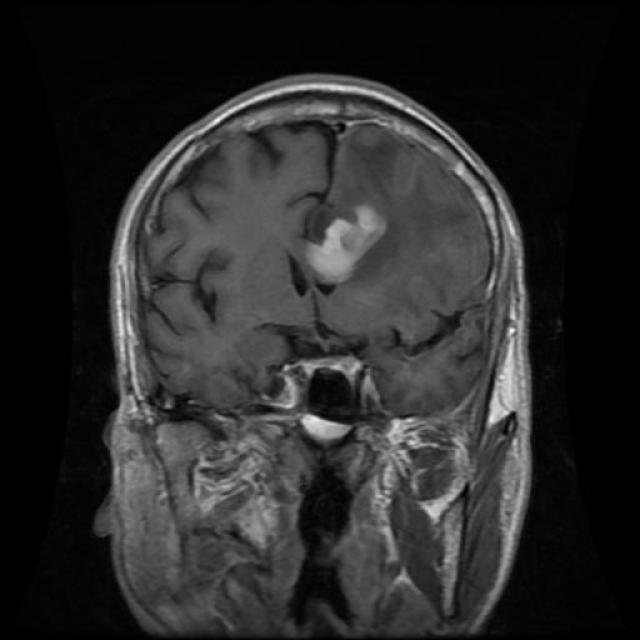glioma: (276, 185, 386, 299)
